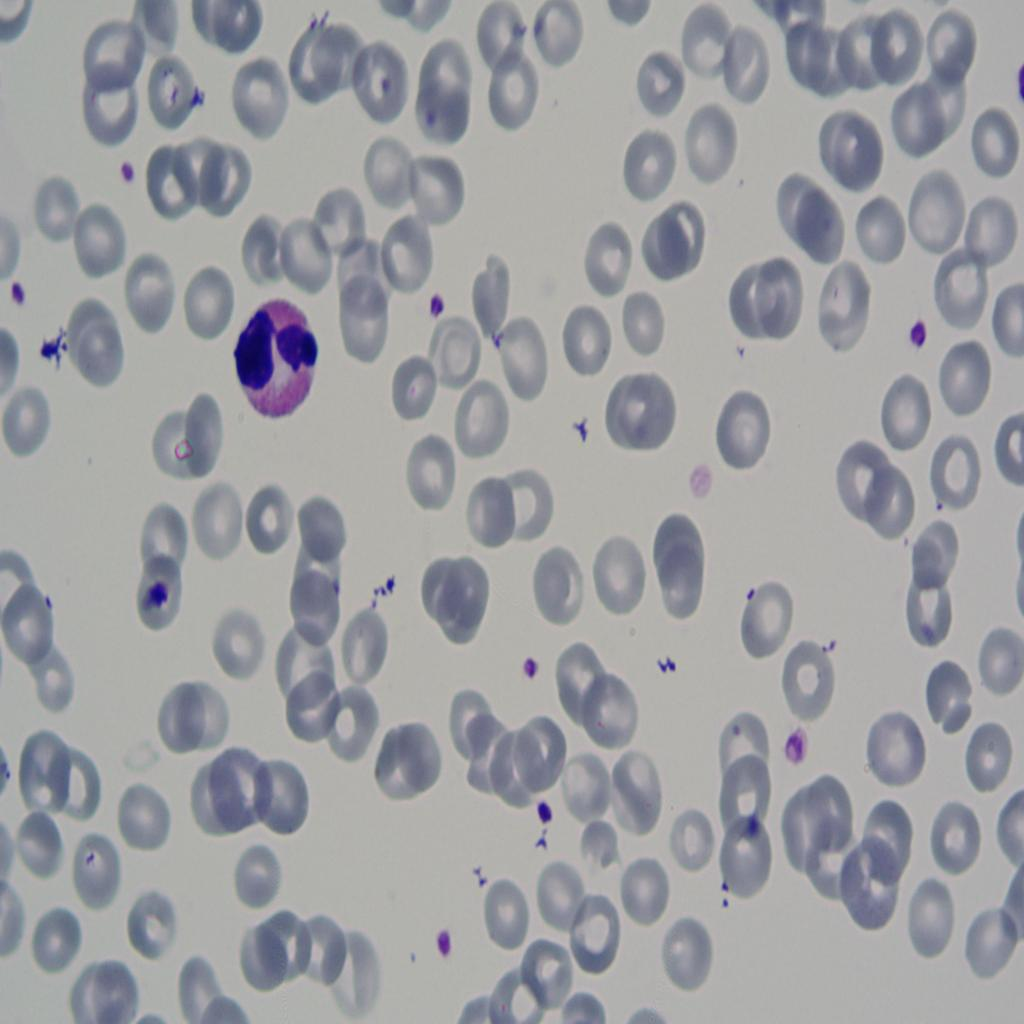Eosinofil: (224, 263, 316, 439)
Platelet: (506, 635, 554, 707), (890, 306, 937, 373), (108, 142, 146, 194), (779, 724, 813, 780), (39, 326, 70, 386), (139, 568, 168, 624), (427, 913, 454, 962), (740, 801, 769, 840), (10, 262, 33, 309), (426, 286, 454, 322), (534, 795, 556, 837)
